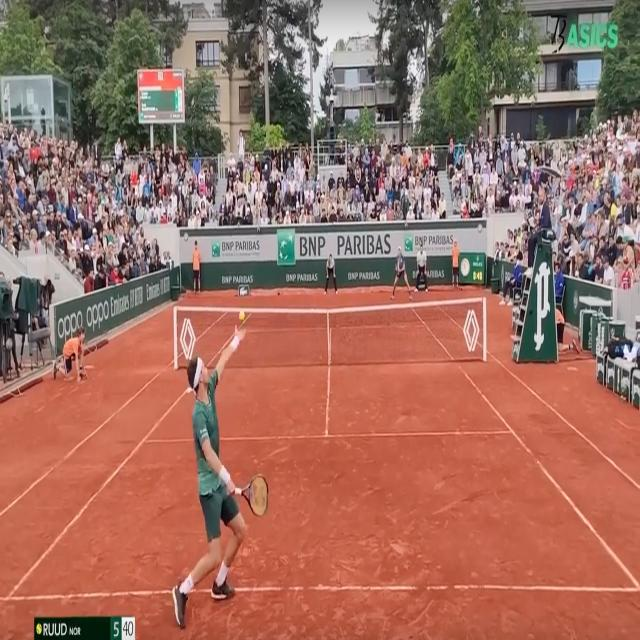ball: (238, 309, 246, 322)
